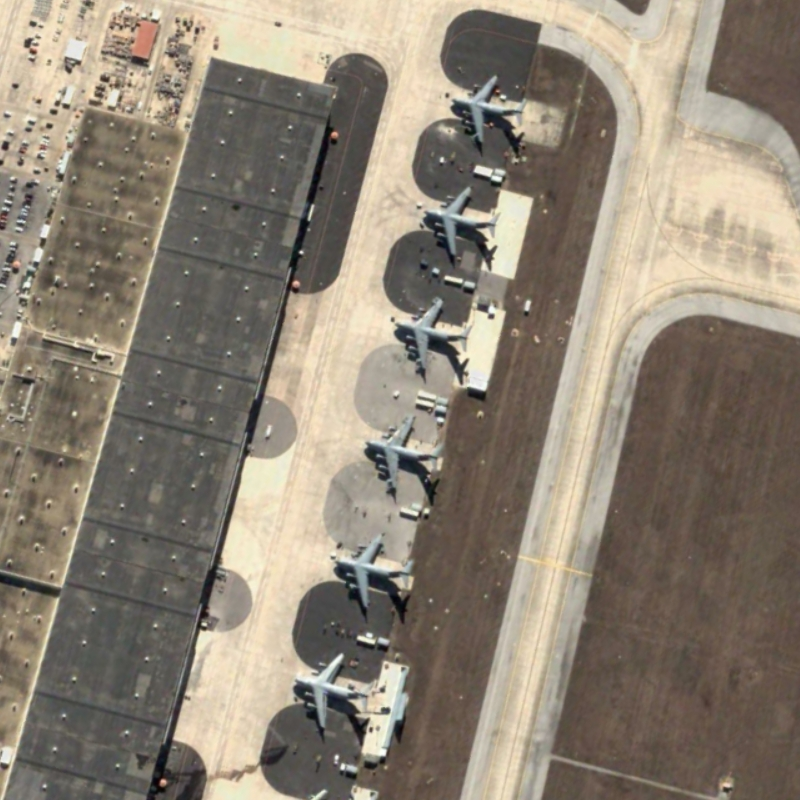A3: (289, 644, 380, 740), (326, 524, 421, 613), (355, 411, 451, 497), (438, 68, 531, 155), (381, 293, 474, 378), (415, 181, 505, 265)
